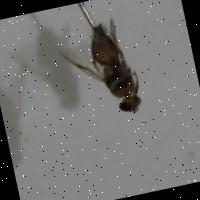Oriental-fruit-fly: (39, 0, 173, 164)
